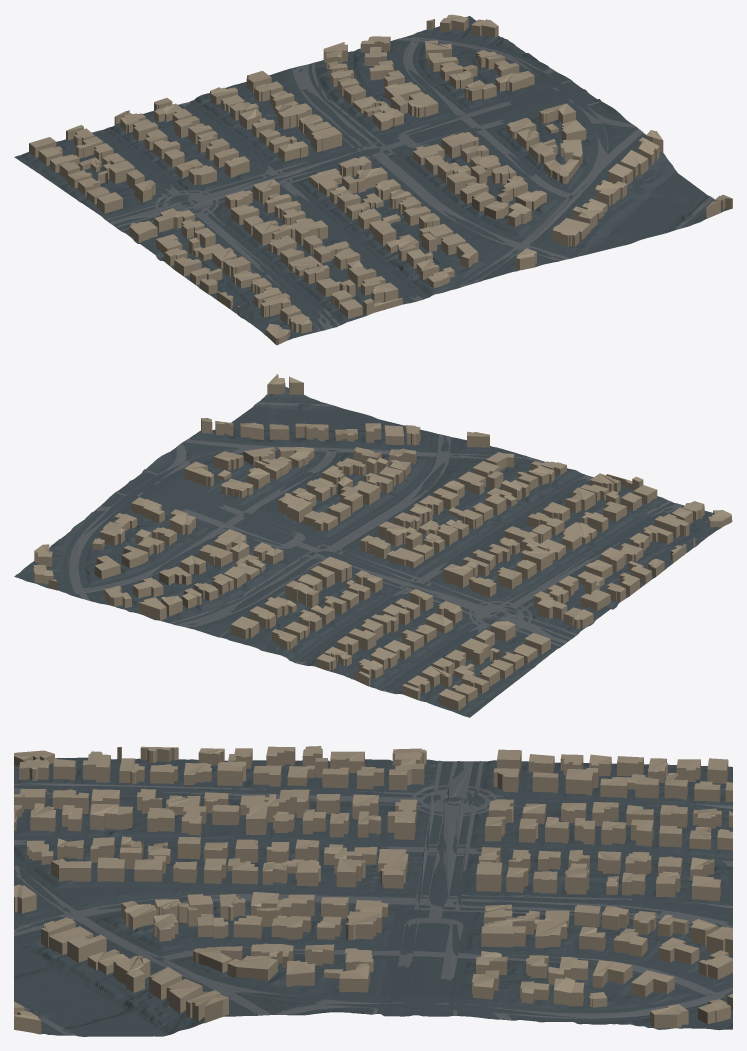
Rendered from epsg26910-1424-10876.lod0.glb.
3 views of the same model, one above another, from view 1: azimuth 30°, elevation 25°; view 2: azimuth 150°, elevation 25°; view 3: azimuth 270°, elevation 25° (orthographic). The views are drawn at different scales.
Visible parts, largest first — view 1: epsg26910-1424-10876-lod0; view 2: epsg26910-1424-10876-lod0; view 3: epsg26910-1424-10876-lod0.
Boxes of the visible parts, box(x1,y1,x2,y2) form: epsg26910-1424-10876-lod0: box(14, 14, 732, 345); epsg26910-1424-10876-lod0: box(14, 374, 732, 717); epsg26910-1424-10876-lod0: box(14, 746, 732, 1036).
Size of the model in its own units: 384 by 41.69 by 384.
